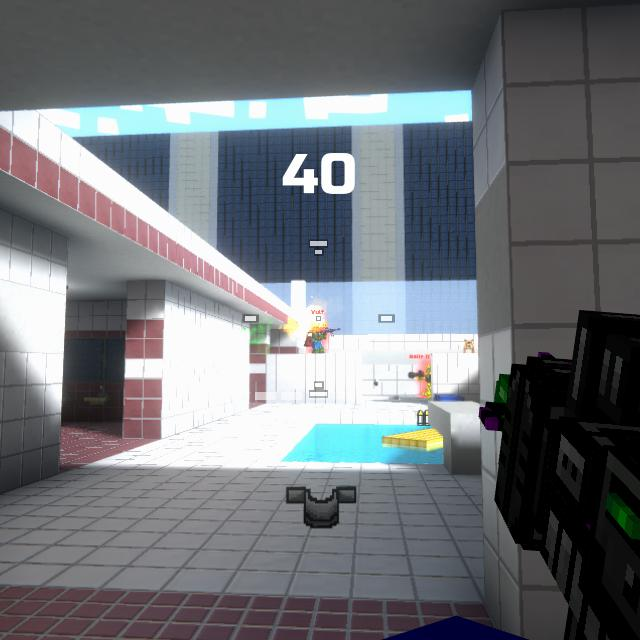Enemy: (308, 322, 327, 354), (418, 364, 431, 398)
